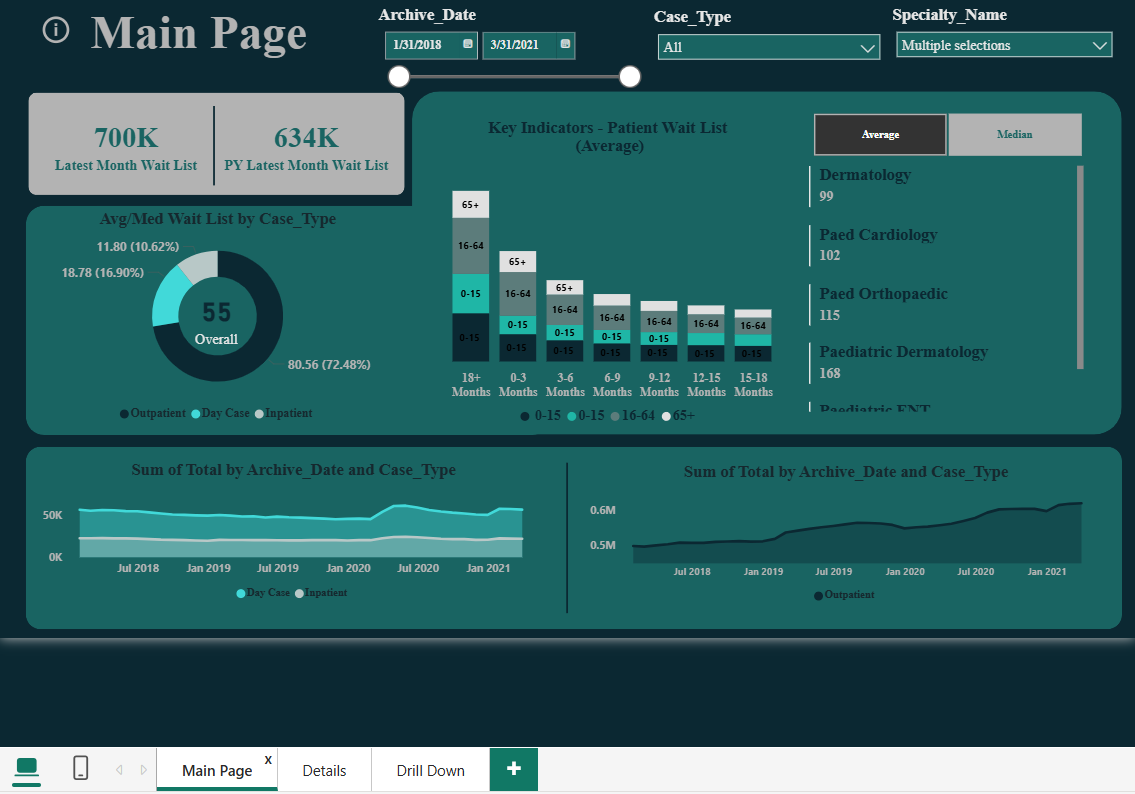

The page's visual inventory and layout, read from the dashboard file:
{"tool":"powerbi","page":{"name":"Main Page","canvas":[1280,720],"ordinal":0},"visuals":[{"type":"donutChart","fields":{"Category":["All_Data.Case_Type"],"Y":["All_Data.Avg/Med Wait List"]},"box":[100,254.3,425.7,215.7],"z":0},{"type":"shape","box":[28.6,232.9,591.4,258.6],"z":1000},{"type":"shape","box":[464.3,104.3,800,387.1],"z":2000},{"type":"shape","box":[28.6,504.3,1235.7,205.7],"z":3000},{"type":"slicer","fields":{"Values":["Calculation Method.Calc Method"]},"box":[891.4,121.4,351.4,61.4],"z":4000},{"type":"columnChart","title":"Avg Wait by Time Bands & Age","fields":{"Y":["All_Data.Avg/Med Wait List"],"Series":["All_Data.Age_Profile"],"Category":["All_Data.Time_Bands"]},"box":[477.1,164.3,420,327.1],"z":5000},{"type":"multiRowCard","fields":{"Values":["All_Data.Specialty_Name","All_Data.Avg/Med Wait List"]},"box":[907.1,182.9,320,287.1],"z":6000},{"type":"lineChart","fields":{"Category":["All_Data.Archive_Date"],"Y":["Sum(All_Data.Total)"],"Series":["All_Data.Case_Type"]},"box":[42.9,520,575.7,168.6],"z":7000},{"type":"lineChart","fields":{"Category":["All_Data.Archive_Date"],"Y":["Sum(All_Data.Total)"],"Series":["All_Data.Case_Type"]},"box":[660,522.9,587.1,168.6],"z":8000},{"type":"donutChart","fields":{"Category":["All_Data.Case_Type"],"Y":["All_Data.Avg/Med Wait List"]},"box":[32.9,237.1,424.3,250],"z":9000},{"type":"slicer","title":"Case_Type","fields":{"Values":["All_Data.Case_Type"]},"box":[731.4,10,270,77.1],"z":10000},{"type":"slicer","title":"Specialty_Name","fields":{"Values":["All_Data.Specialty_Name"]},"box":[1001.4,7.1,262.9,80],"z":11000},{"type":"textbox","title":"Main Page","box":[42.7,6.7,361.9,94.8],"z":12000},{"type":"slicer","title":"Archive_Date","fields":{"Values":["All_Data.Archive_Date"]},"box":[422,6.7,309.8,94.8],"z":13000},{"type":"shape","box":[31.4,105.7,424.3,115.7],"z":14000},{"type":"card","fields":{"Values":["All_Data.Latest Month Wait List"]},"box":[42.9,114.3,198.6,100],"z":15000},{"type":"card","fields":{"Values":["All_Data.PY Latest Month Wait List"]},"box":[241.4,114.3,208.6,100],"z":16000},{"type":"card","fields":{"Values":["All_Data.Avg/Med Wait List"]},"box":[197.1,310,94.3,100],"z":17000},{"type":"shape","box":[223,120.2,36.1,89.5],"z":18000},{"type":"shape","box":[623.6,522.1,30.7,169.6],"z":19000},{"type":"card","fields":{"Values":["All_Data.Dynamic Title"]},"box":[507.1,105.7,360,100],"z":20000},{"type":"actionButton","box":[42.7,9.3,40.1,50.7],"z":21000}]}

Visuals, with their boxes on the page's 1280x720 design canvas (x1, y1, x2, y2). These are canvas units, not pixel positions in the 1135x794 screenshot, which may show the page scaled, cropped or inside an application window:
donutChart - All_Data.Case_Type x All_Data.Avg/Med Wait List: bbox=[100, 254, 526, 470]
shape: bbox=[29, 233, 620, 492]
shape: bbox=[464, 104, 1264, 491]
shape: bbox=[29, 504, 1264, 710]
slicer - Calculation Method.Calc Method: bbox=[891, 121, 1243, 183]
"Avg Wait by Time Bands & Age" columnChart: bbox=[477, 164, 897, 491]
multiRowCard - All_Data.Specialty_Name x All_Data.Avg/Med Wait List: bbox=[907, 183, 1227, 470]
lineChart - All_Data.Archive_Date x Sum(All_Data.Total): bbox=[43, 520, 619, 689]
lineChart - All_Data.Archive_Date x Sum(All_Data.Total): bbox=[660, 523, 1247, 692]
donutChart - All_Data.Case_Type x All_Data.Avg/Med Wait List: bbox=[33, 237, 457, 487]
"Case_Type" slicer: bbox=[731, 10, 1001, 87]
"Specialty_Name" slicer: bbox=[1001, 7, 1264, 87]
"Main Page" textbox: bbox=[43, 7, 405, 102]
"Archive_Date" slicer: bbox=[422, 7, 732, 102]
shape: bbox=[31, 106, 456, 221]
card - All_Data.Latest Month Wait List: bbox=[43, 114, 242, 214]
card - All_Data.PY Latest Month Wait List: bbox=[241, 114, 450, 214]
card - All_Data.Avg/Med Wait List: bbox=[197, 310, 291, 410]
shape: bbox=[223, 120, 259, 210]
shape: bbox=[624, 522, 654, 692]
card - All_Data.Dynamic Title: bbox=[507, 106, 867, 206]
actionButton: bbox=[43, 9, 83, 60]
